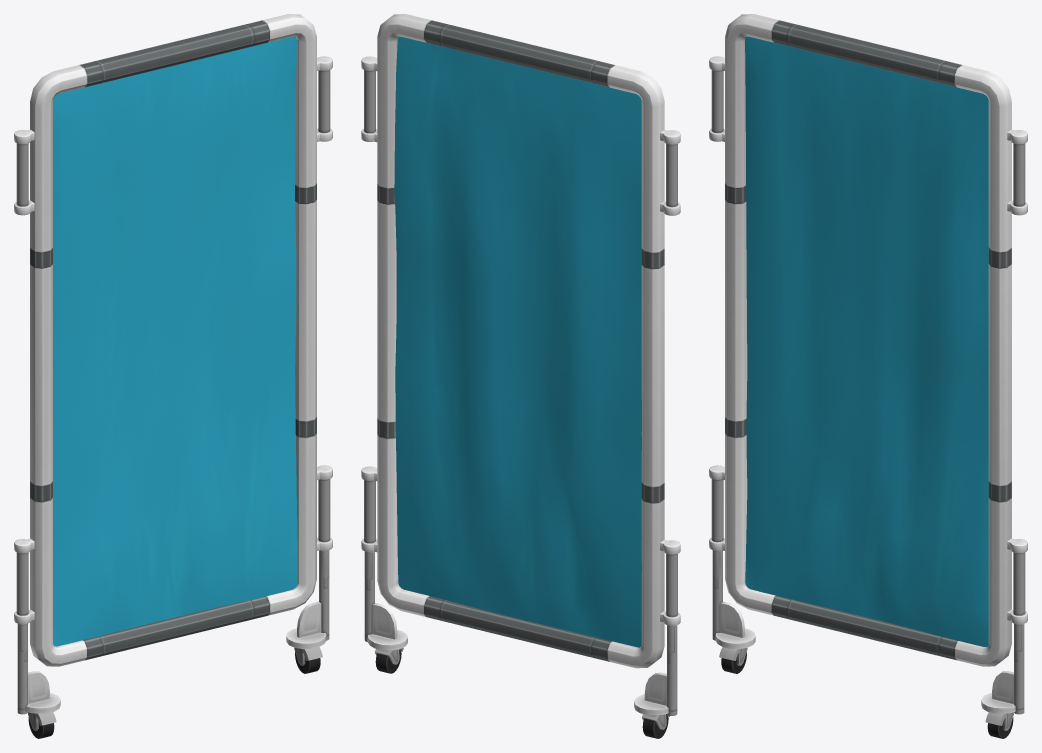
The model's file is MedDivider01_2.FBX.
The picture shows the model from 3 angles, left to right: view 1: azimuth 30°, elevation 25°; view 2: azimuth 150°, elevation 25°; view 3: azimuth 330°, elevation 25°; orthographic projection.
Parts seen in each view (by area): view 1: MedDivider01_2; view 2: MedDivider01_2; view 3: MedDivider01_2.
Part boxes in pixels (x1,y1,x2,y2): MedDivider01_2: (14,14,332,738); MedDivider01_2: (361,14,680,738); MedDivider01_2: (709,14,1027,738).
Size of what is drawn, in the model's own units: 1.05 by 2.09 by 0.1104.
